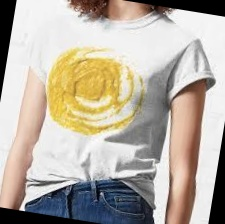mustard: (43, 83, 124, 136), (59, 58, 117, 104), (108, 65, 143, 134), (53, 42, 102, 89)
